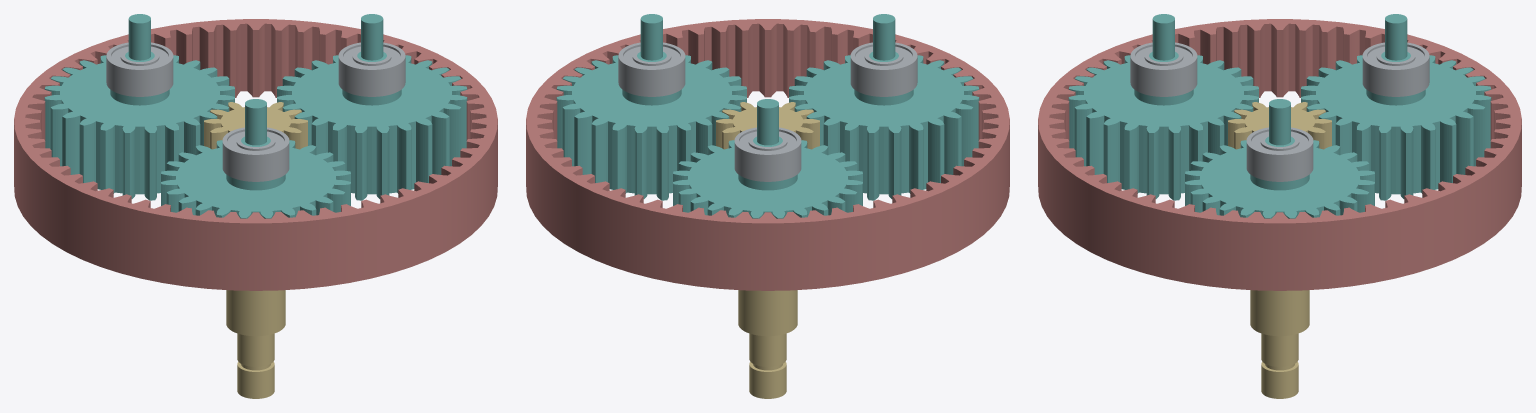
Rendered from step_21.glb.
3 renders of one model, left to right at view 1: azimuth 30°, elevation 25°; view 2: azimuth 150°, elevation 25°; view 3: azimuth 270°, elevation 25°, orthographic.
Parts seen in each view (by area): view 1: part__ring gear, part__planet gear 1, part__planet gear 2, part__planet gear 3, part__sun gear, part__bearing 3, part__bearing 1, part__bearing 2; view 2: part__ring gear, part__planet gear 1, part__planet gear 3, part__planet gear 2, part__sun gear, part__bearing 2, part__bearing 1, part__bearing 3; view 3: part__ring gear, part__planet gear 2, part__planet gear 3, part__planet gear 1, part__sun gear, part__bearing 1, part__bearing 2, part__bearing 3.
Boxes of the visible parts, <box> form: part__ring gear: <box>14,19,497,290</box>; part__planet gear 1: <box>277,14,467,200</box>; part__planet gear 2: <box>44,14,234,200</box>; part__planet gear 3: <box>161,99,350,218</box>; part__sun gear: <box>204,102,307,398</box>; part__bearing 3: <box>222,127,289,181</box>; part__bearing 1: <box>338,42,405,96</box>; part__bearing 2: <box>106,42,173,96</box>; part__ring gear: <box>526,19,1009,290</box>; part__planet gear 1: <box>556,14,746,200</box>; part__planet gear 3: <box>789,14,979,200</box>; part__planet gear 2: <box>673,99,862,218</box>; part__sun gear: <box>716,102,819,398</box>; part__bearing 2: <box>734,127,801,181</box>; part__bearing 1: <box>618,42,685,96</box>; part__bearing 3: <box>850,42,917,96</box>; part__ring gear: <box>1038,19,1521,290</box>; part__planet gear 2: <box>1301,14,1491,200</box>; part__planet gear 3: <box>1068,14,1258,200</box>; part__planet gear 1: <box>1185,99,1374,218</box>; part__sun gear: <box>1228,102,1331,398</box>; part__bearing 1: <box>1246,127,1313,181</box>; part__bearing 2: <box>1362,42,1429,96</box>; part__bearing 3: <box>1130,42,1197,96</box>.
Size of the model in its own units: 64.96 by 51 by 64.98.
